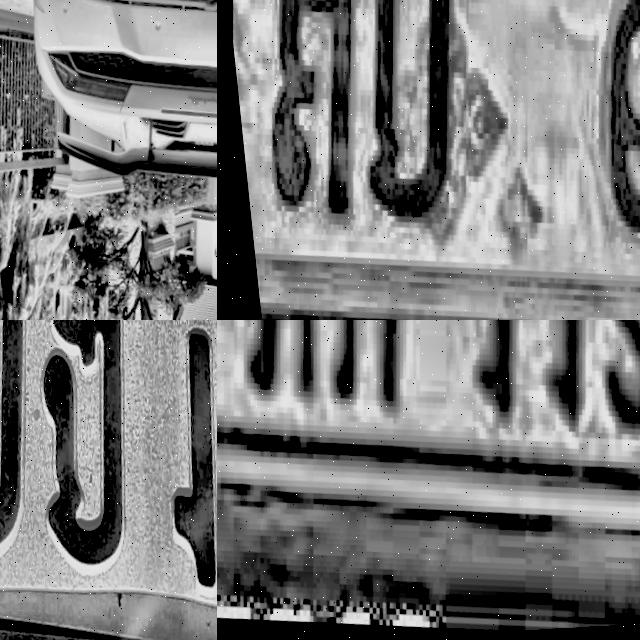license-plate: (217, 0, 640, 320), (217, 320, 640, 555), (0, 320, 217, 640)
